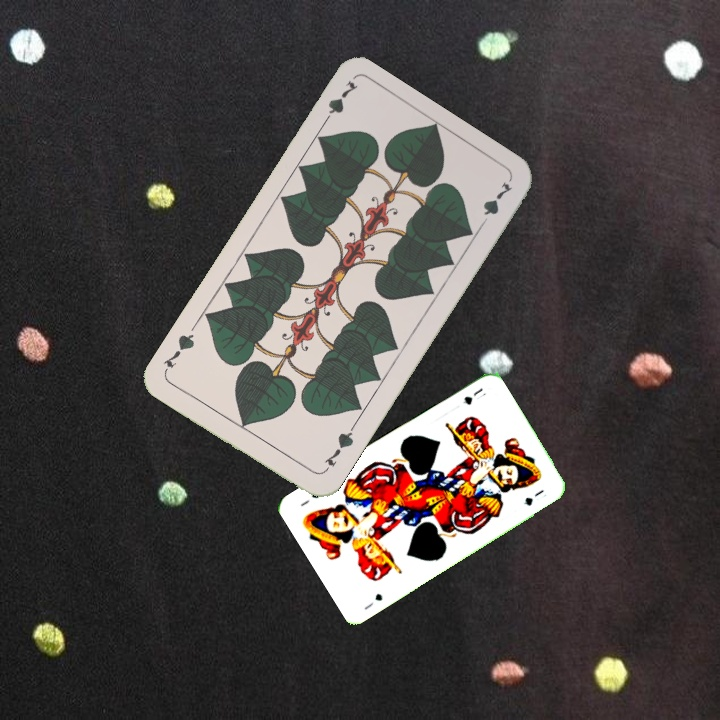G7: (317, 76, 361, 130), (319, 423, 357, 475)
GU: (458, 384, 486, 407), (360, 589, 385, 613)
